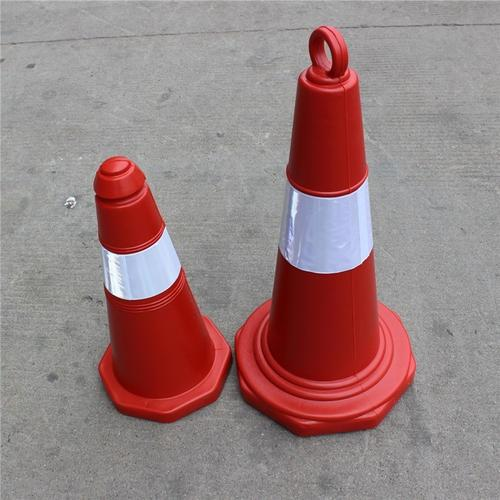cone_barrel: (245, 30, 405, 404), (82, 152, 230, 409)
